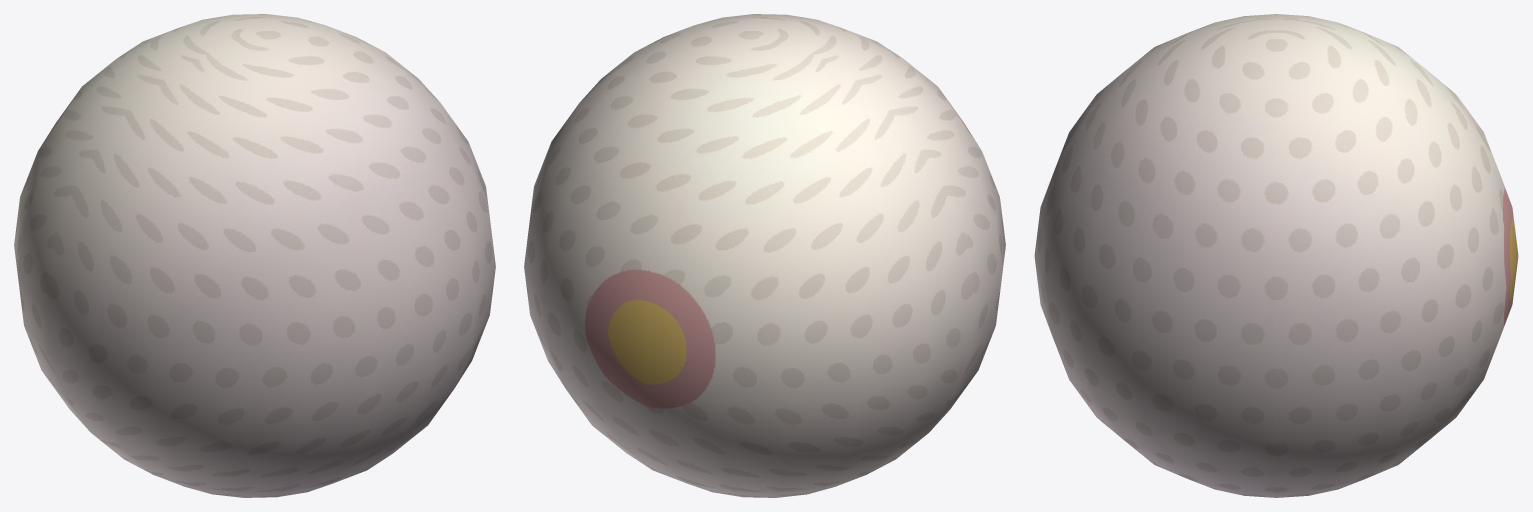
File: golf_ball.glb
3 renders of one model, left to right at view 1: azimuth 30°, elevation 25°; view 2: azimuth 150°, elevation 25°; view 3: azimuth 270°, elevation 25°, orthographic.
Parts seen in each view (by area): view 1: Ball; view 2: Ball; view 3: Ball.
Boxes of the visible parts, x1,y1,x2,y2 form: Ball: (14,14,495,497); Ball: (524,14,1005,497); Ball: (1034,14,1518,497).
Size of the model in its own units: 0.12 by 0.12 by 0.12.
1 material, 1 textured.
